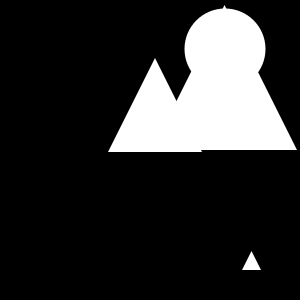rectangle: (184, 8, 266, 90)
triangle: (152, 5, 297, 150), (108, 58, 202, 152), (242, 251, 261, 270)
